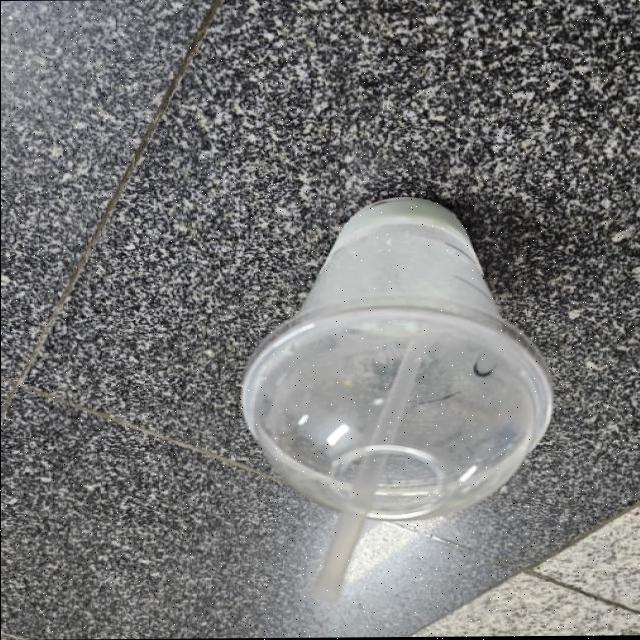cup: (228, 194, 580, 532)
